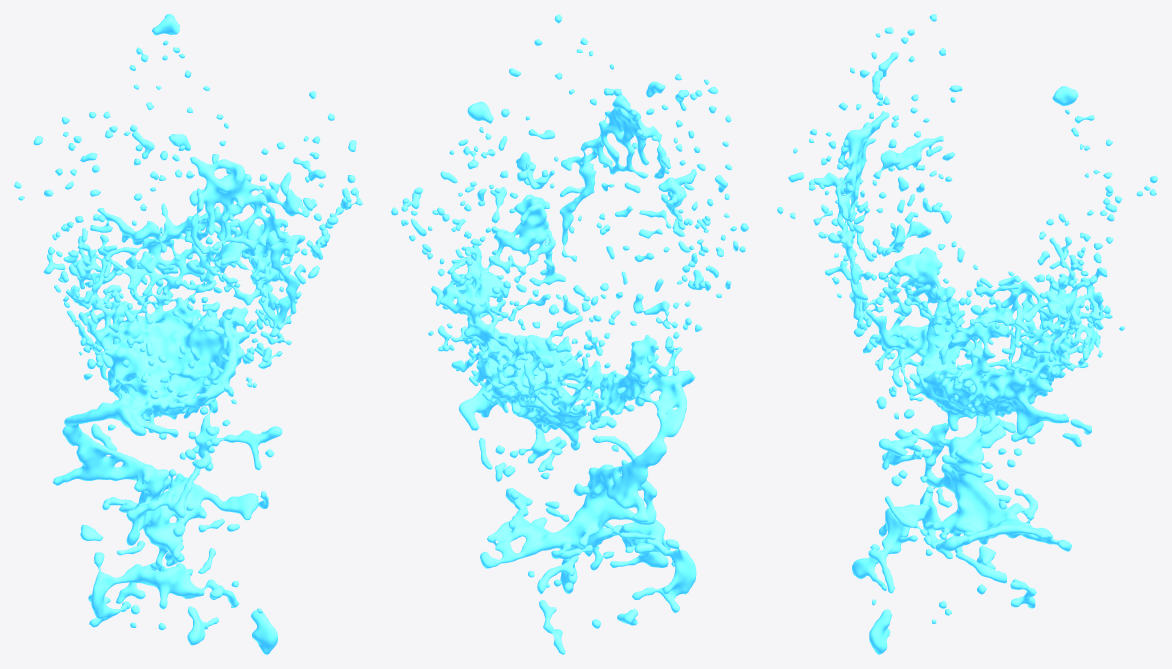
File: Precipitees.gltf
The picture shows the model from 3 angles, left to right: view 1: azimuth 30°, elevation 25°; view 2: azimuth 150°, elevation 25°; view 3: azimuth 270°, elevation 25°; orthographic projection.
Parts seen in each view (by area): view 1: fb3e9a34-f6c4-4235-a8a3-5495ba1bad7d; view 2: fb3e9a34-f6c4-4235-a8a3-5495ba1bad7d; view 3: fb3e9a34-f6c4-4235-a8a3-5495ba1bad7d.
Boxes of the visible parts, left/top/right/bottom form: fb3e9a34-f6c4-4235-a8a3-5495ba1bad7d: left=14, top=14, right=362, bottom=654; fb3e9a34-f6c4-4235-a8a3-5495ba1bad7d: left=391, top=14, right=748, bottom=654; fb3e9a34-f6c4-4235-a8a3-5495ba1bad7d: left=777, top=14, right=1157, bottom=654.
Bounding box in the file's own units: 579 × 1056 × 643.
